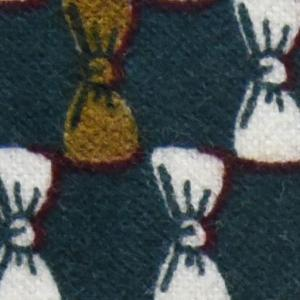Oil Stain: (59, 1, 143, 181)
